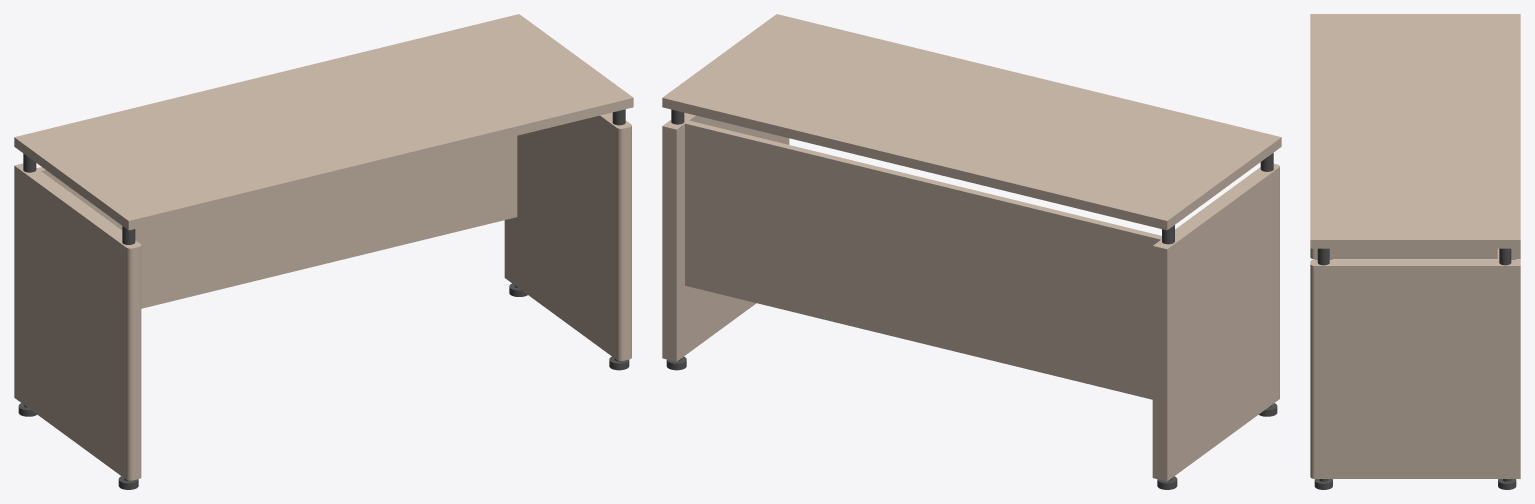
The model's file is 495_デスク.glb.
3 renders of one model, left to right at view 1: azimuth 30°, elevation 25°; view 2: azimuth 150°, elevation 25°; view 3: azimuth 270°, elevation 25°, orthographic. The views are drawn at different scales.
Visible parts, largest first — view 1: body; view 2: body; view 3: body.
Boxes of the visible parts, left/top/right/bottom form: body: left=14, top=14, right=633, bottom=489; body: left=662, top=14, right=1281, bottom=489; body: left=1310, top=14, right=1520, bottom=489.
Bounding box in the file's own units: 1.41 × 0.72 × 0.55.
